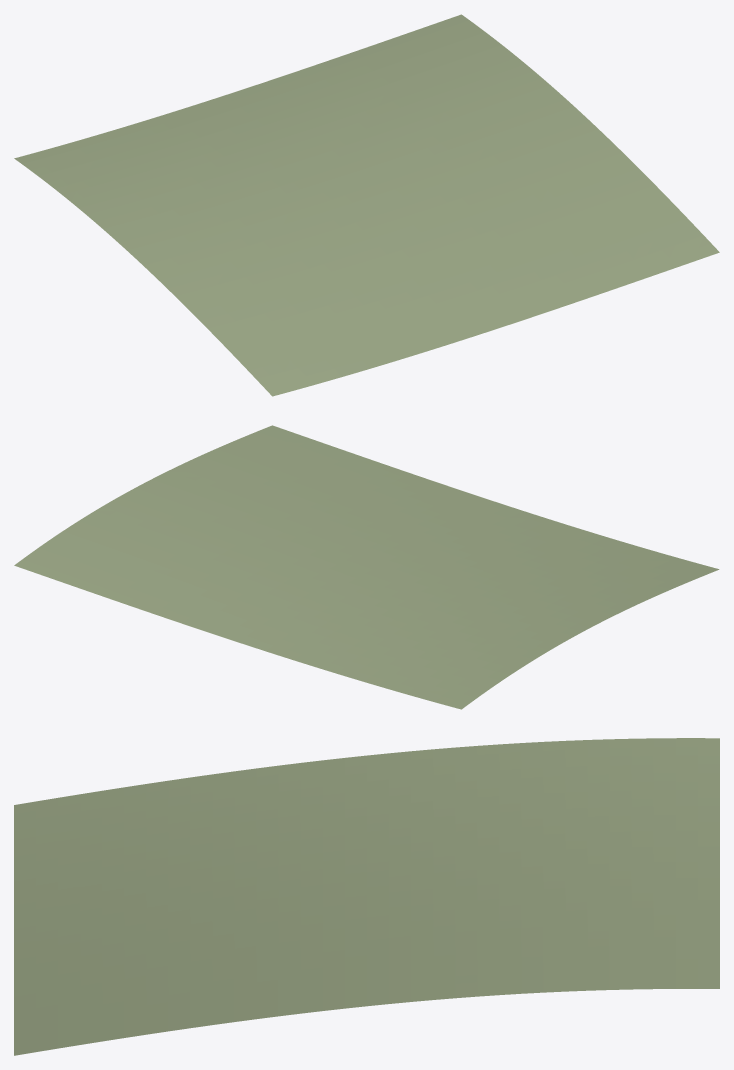
The model's file is valley-9-15.glb.
The picture shows the model from 3 angles, top to bottom: view 1: azimuth 30°, elevation 25°; view 2: azimuth 150°, elevation 25°; view 3: azimuth 270°, elevation 25°; orthographic projection. The views are drawn at different scales.
Visible parts, largest first — view 1: valley-9-15; view 2: valley-9-15; view 3: valley-9-15.
Boxes of the visible parts, left/top/right/bottom form: valley-9-15: left=14, top=14, right=719, bottom=396; valley-9-15: left=14, top=425, right=719, bottom=709; valley-9-15: left=14, top=738, right=719, bottom=1055.
Size of the model in its own units: 256 by 45.83 by 256.
